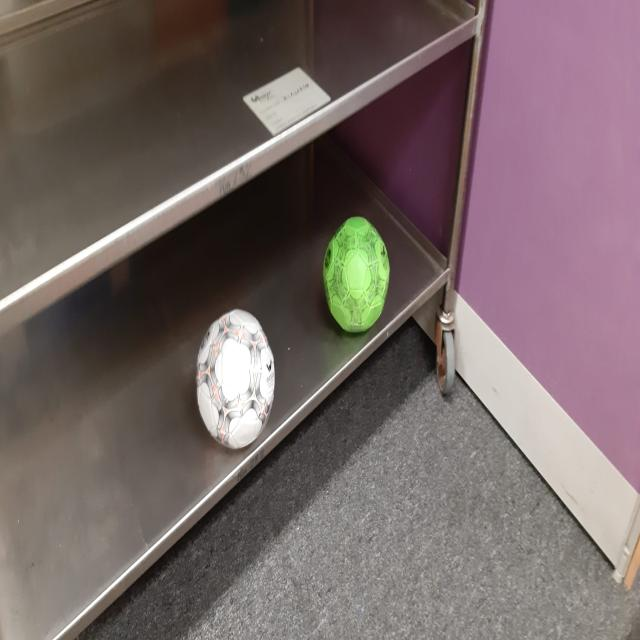ball: (196, 312, 276, 452), (323, 215, 391, 334)
